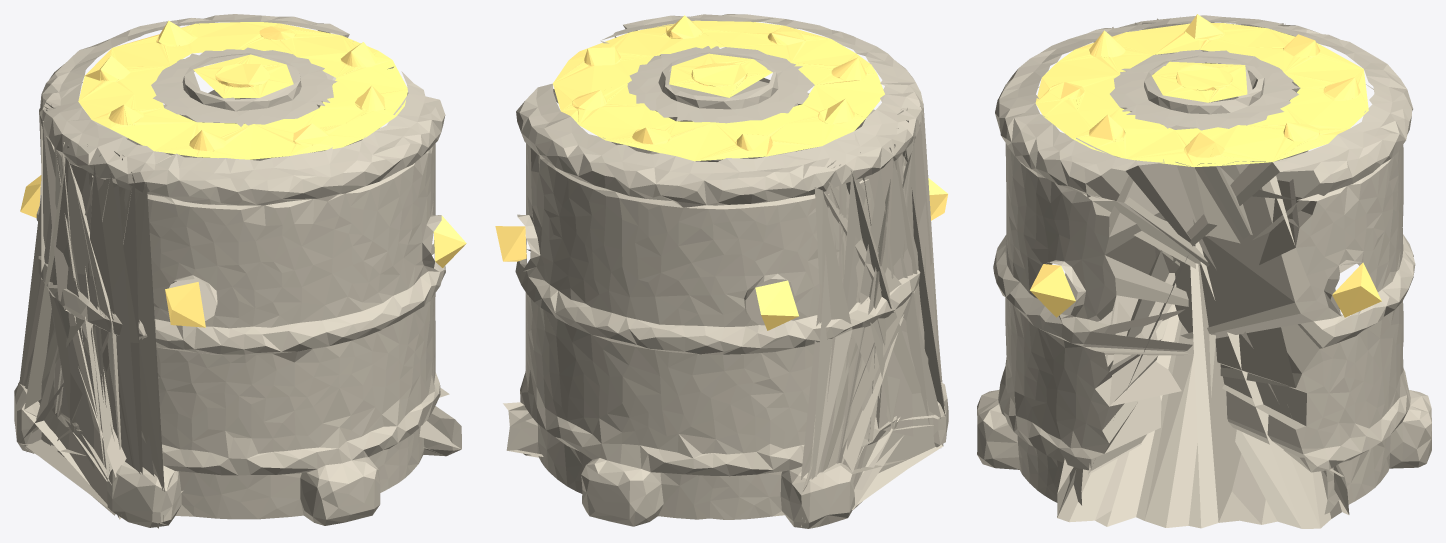
The model's file is meshy-stone-drum-stool.glb.
3 views of the same model, side by side, from view 1: azimuth 30°, elevation 25°; view 2: azimuth 150°, elevation 25°; view 3: azimuth 270°, elevation 25° (orthographic). The views are drawn at different scales.
Parts seen in each view (by area): view 1: mesh_node; view 2: mesh_node; view 3: mesh_node.
Part boxes in pixels (bbox=[...]): mesh_node: bbox=[14, 14, 466, 528]; mesh_node: bbox=[495, 14, 948, 528]; mesh_node: bbox=[977, 14, 1431, 528].
Size of the model in its own units: 1.63 by 1.75 by 1.9.
